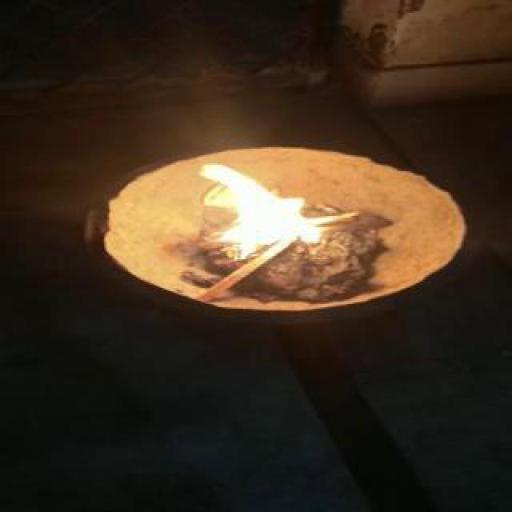smoke: (184, 160, 350, 256)
